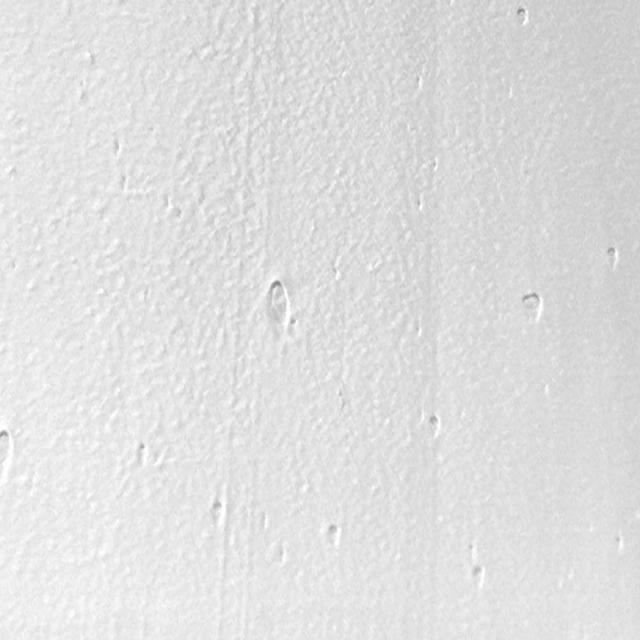pin holes: (264, 276, 294, 332), (520, 288, 546, 323), (0, 428, 16, 467), (323, 522, 343, 552), (468, 563, 487, 594), (208, 498, 228, 526), (602, 246, 622, 273), (134, 441, 152, 469), (512, 4, 532, 28), (609, 533, 628, 558), (425, 413, 443, 439), (466, 542, 481, 560), (112, 137, 125, 157)
